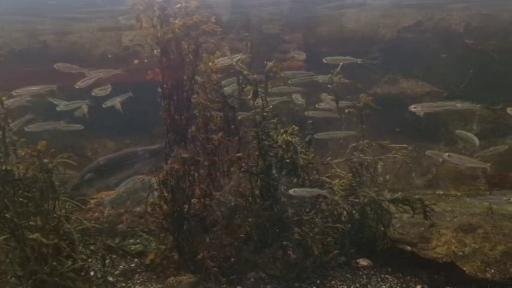Fish: (71, 144, 164, 197), (104, 176, 158, 208), (368, 76, 446, 97), (408, 101, 481, 117), (75, 70, 122, 87), (443, 153, 490, 168), (103, 92, 133, 112), (25, 122, 83, 131), (11, 85, 57, 96), (474, 145, 508, 157), (214, 53, 243, 67), (56, 100, 92, 111), (4, 95, 32, 109), (289, 188, 331, 197), (10, 115, 35, 130), (456, 130, 479, 146), (323, 57, 374, 64), (314, 131, 358, 139), (75, 74, 102, 87), (54, 63, 87, 73), (467, 196, 511, 203), (315, 75, 352, 83), (86, 69, 122, 77), (288, 75, 317, 84), (305, 111, 340, 118), (282, 71, 315, 78), (92, 84, 111, 96), (269, 87, 305, 93), (321, 93, 335, 107), (287, 51, 306, 61), (267, 97, 290, 105), (426, 150, 443, 160), (75, 105, 88, 118), (223, 83, 237, 95), (292, 94, 305, 105), (47, 98, 67, 105), (221, 78, 236, 87), (316, 102, 332, 110), (506, 108, 511, 115)
